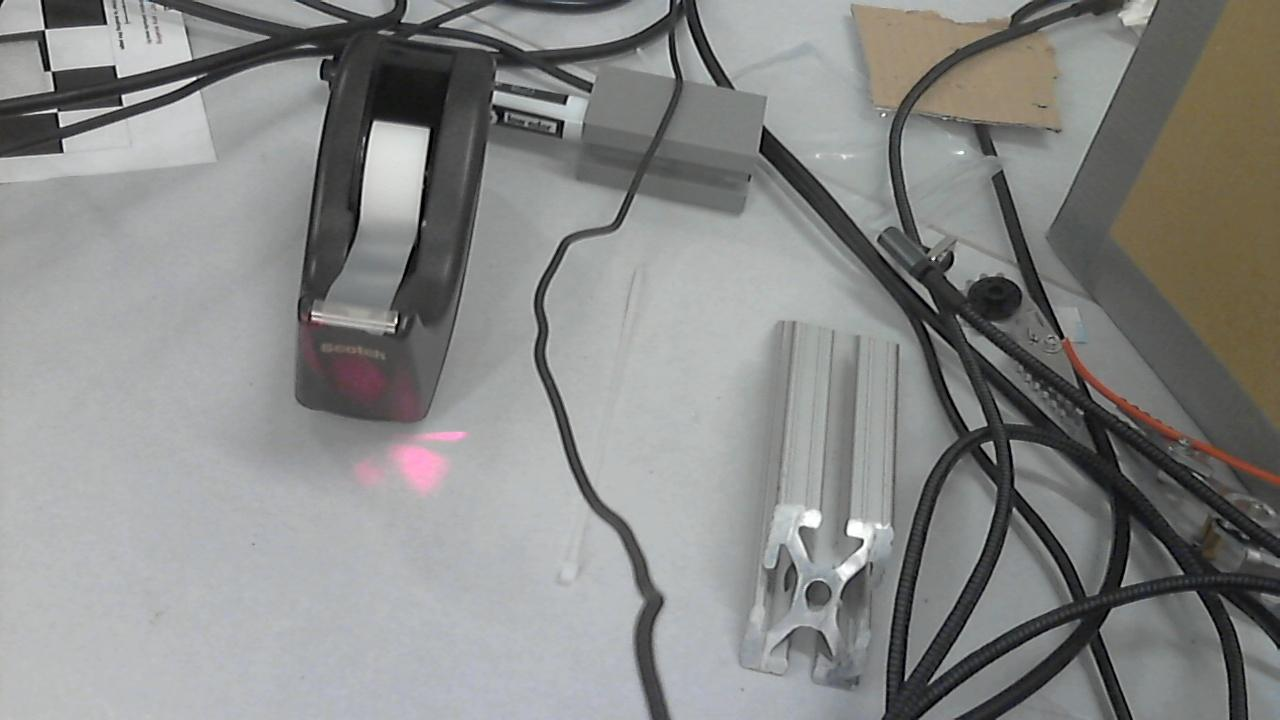Object desktop tape dispenser - Material plastic - Pdfname 8pMd29OsIRjD: (289, 323, 431, 417)
